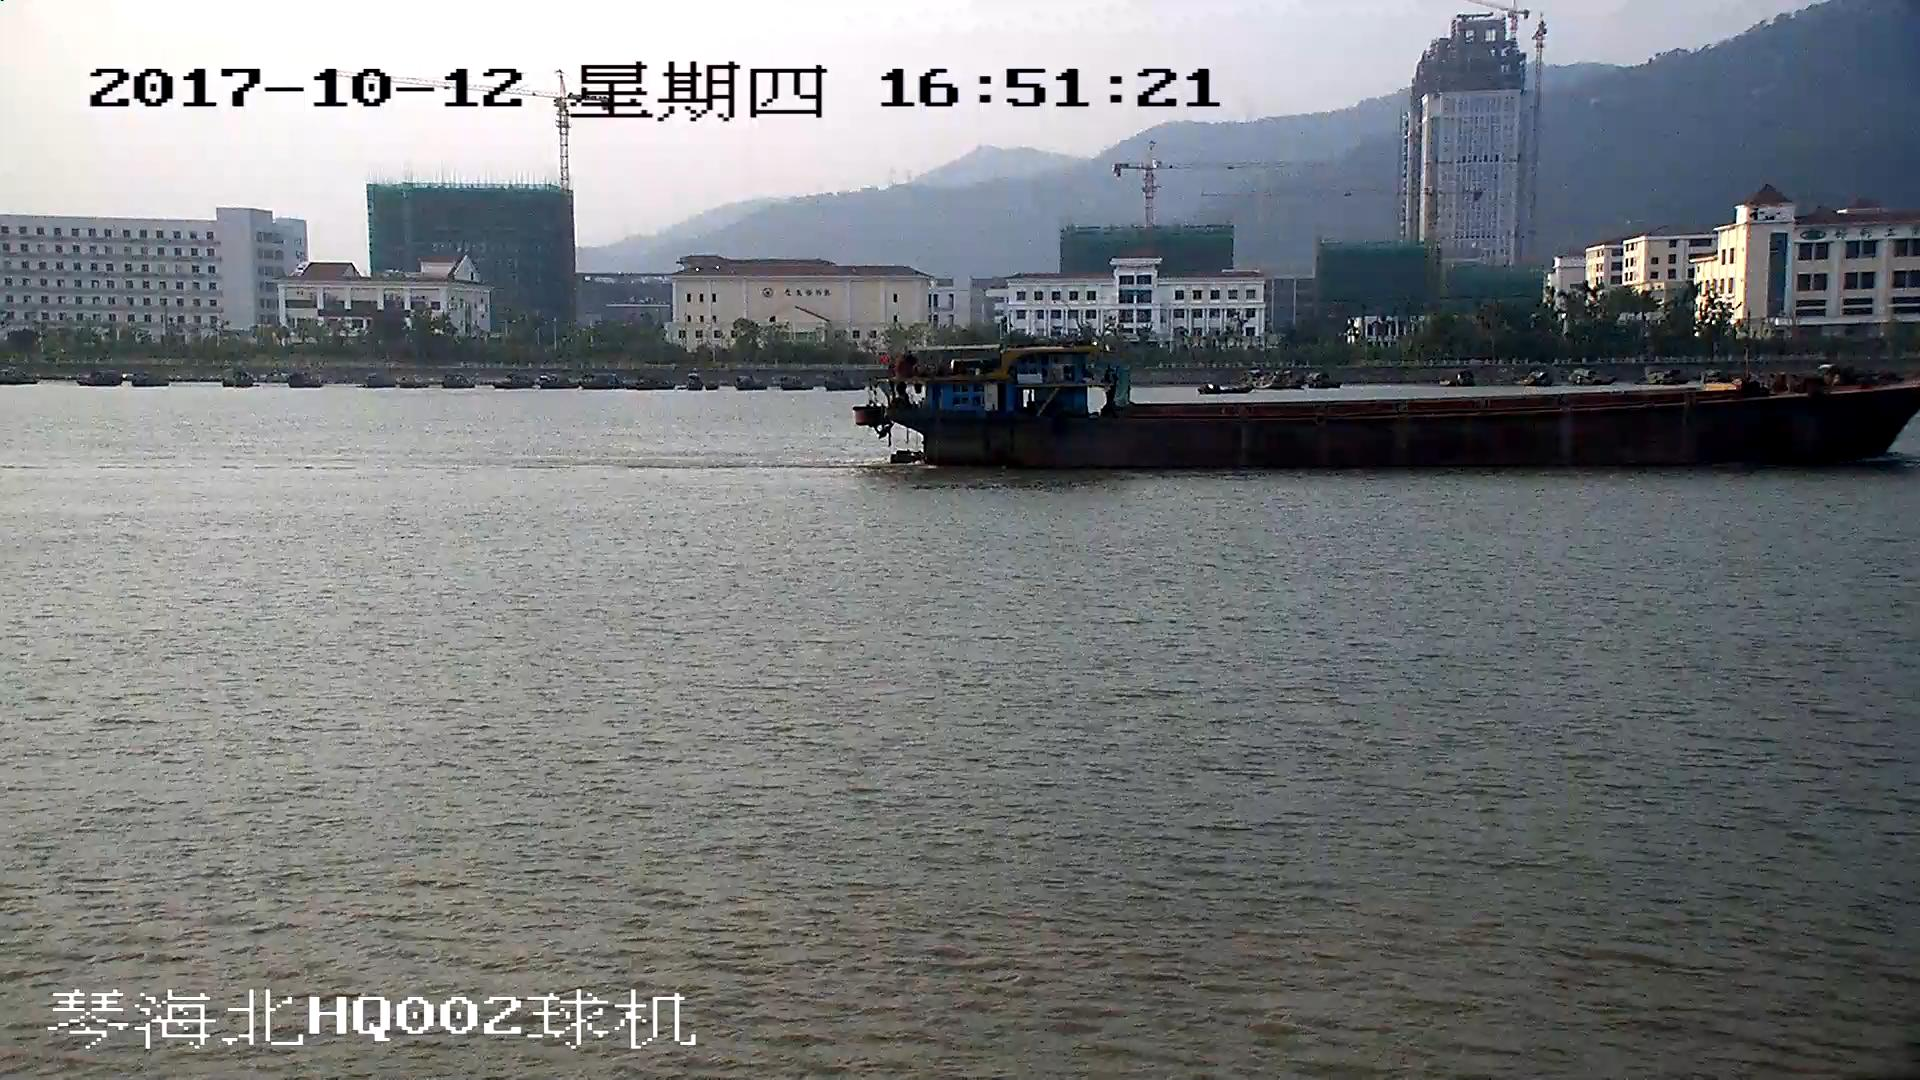bulk cargo carrier: (857, 344, 1920, 473)
